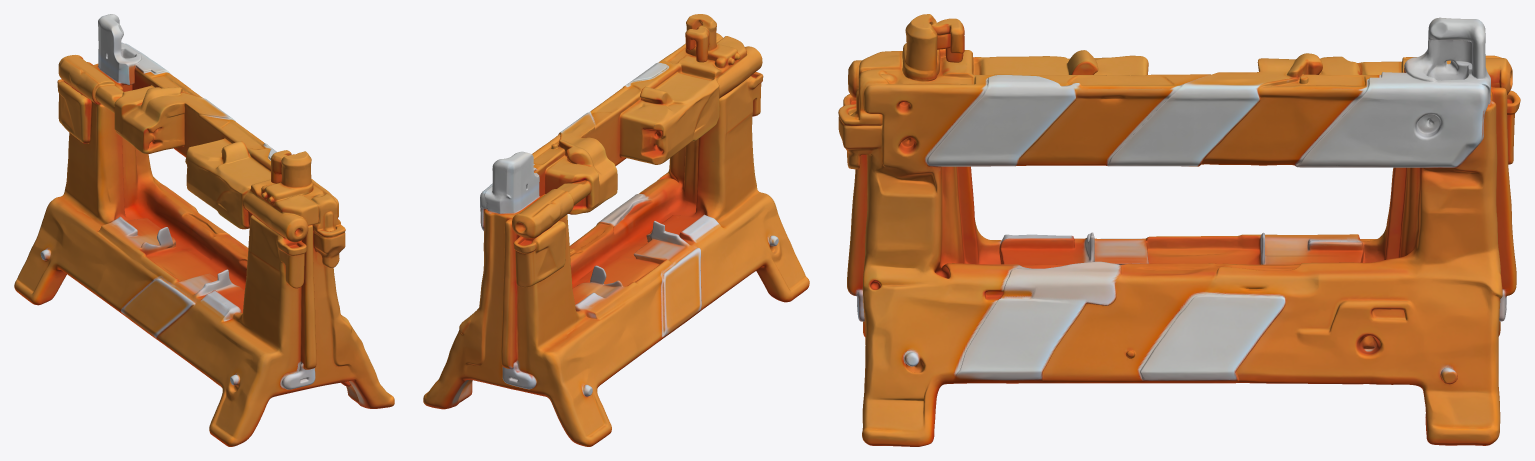
File: orange-and-white-striped-plastic-road-ba-cmue8a8b.glb
3 views of the same model, side by side, from view 1: azimuth 30°, elevation 25°; view 2: azimuth 150°, elevation 25°; view 3: azimuth 270°, elevation 25° (orthographic). The views are drawn at different scales.
Parts seen in each view (by area): view 1: tripo_node_12a06c3a-104c-4f5e-91c6-2785a1d74bbd; view 2: tripo_node_12a06c3a-104c-4f5e-91c6-2785a1d74bbd; view 3: tripo_node_12a06c3a-104c-4f5e-91c6-2785a1d74bbd.
Boxes of the visible parts, bbox=[...] form: tripo_node_12a06c3a-104c-4f5e-91c6-2785a1d74bbd: bbox=[14, 14, 394, 446]; tripo_node_12a06c3a-104c-4f5e-91c6-2785a1d74bbd: bbox=[423, 14, 809, 446]; tripo_node_12a06c3a-104c-4f5e-91c6-2785a1d74bbd: bbox=[838, 14, 1520, 446].
Size of the model in its own units: 0.4097 by 0.6054 by 1.
Materials: 1 (1 with a texture image).
